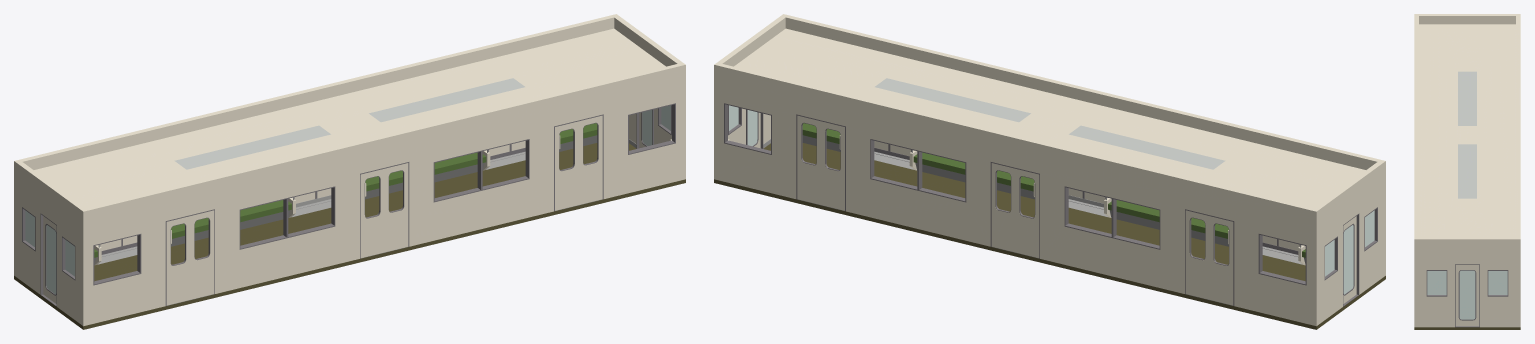
The model's file is anime-subway-car.glb.
3 renders of one model, left to right at view 1: azimuth 30°, elevation 25°; view 2: azimuth 150°, elevation 25°; view 3: azimuth 270°, elevation 25°, orthographic. The views are drawn at different scales.
Visible parts, largest first — view 1: Object_7; view 2: Object_7; view 3: Object_7.
Part boxes in pixels (x1,y1,x2,y2): Object_7: [14, 14, 685, 329]; Object_7: [714, 14, 1385, 329]; Object_7: [1414, 14, 1520, 329].
Size of the model in its own units: 17.06 by 3.2 by 3.4.
Materials: 2 (2 with a texture image).
